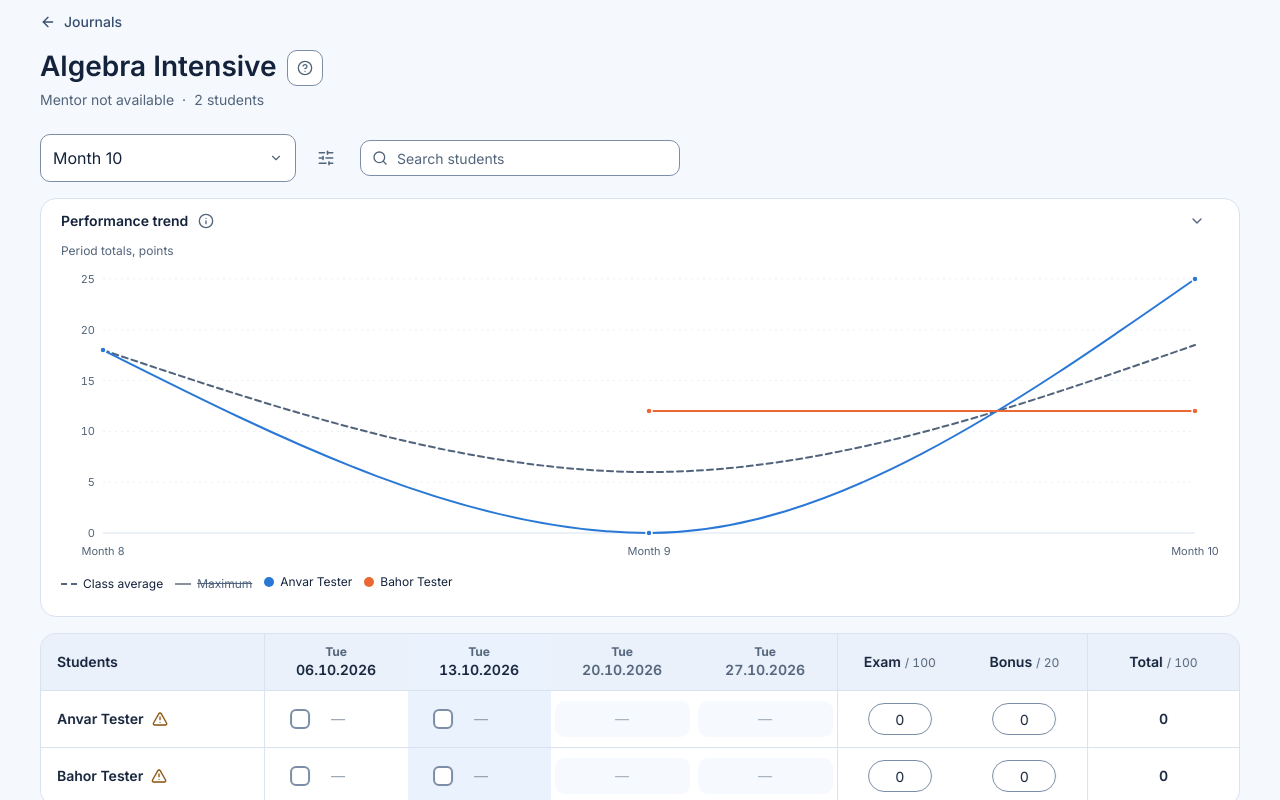
Period settings: exam maximum › rejects a bonus maximum above 100 inline and keeps Save disabled
Click the button named "Period settings" at (326, 158), box [304,136,348,180]
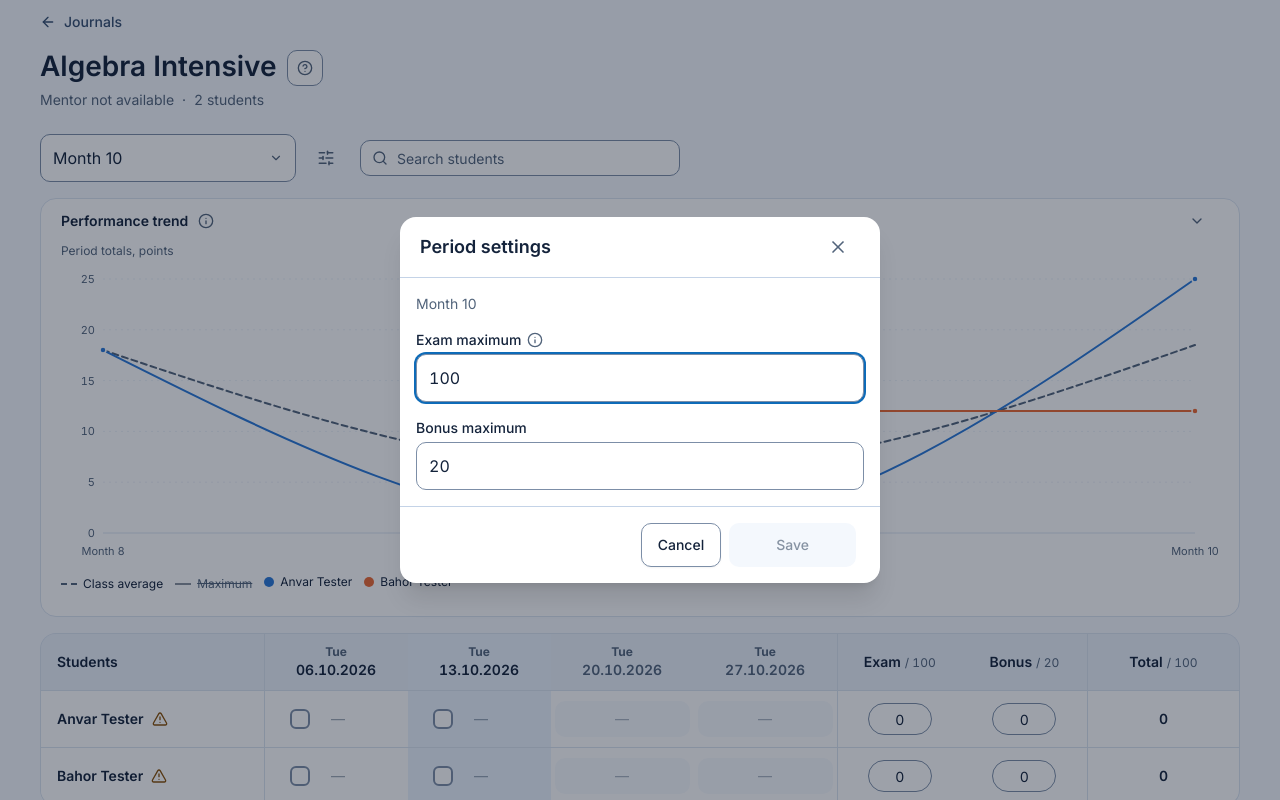
Replace the text in the field labelled "Bonus maximum" with "101" at (640, 466), box [416,442,864,490]
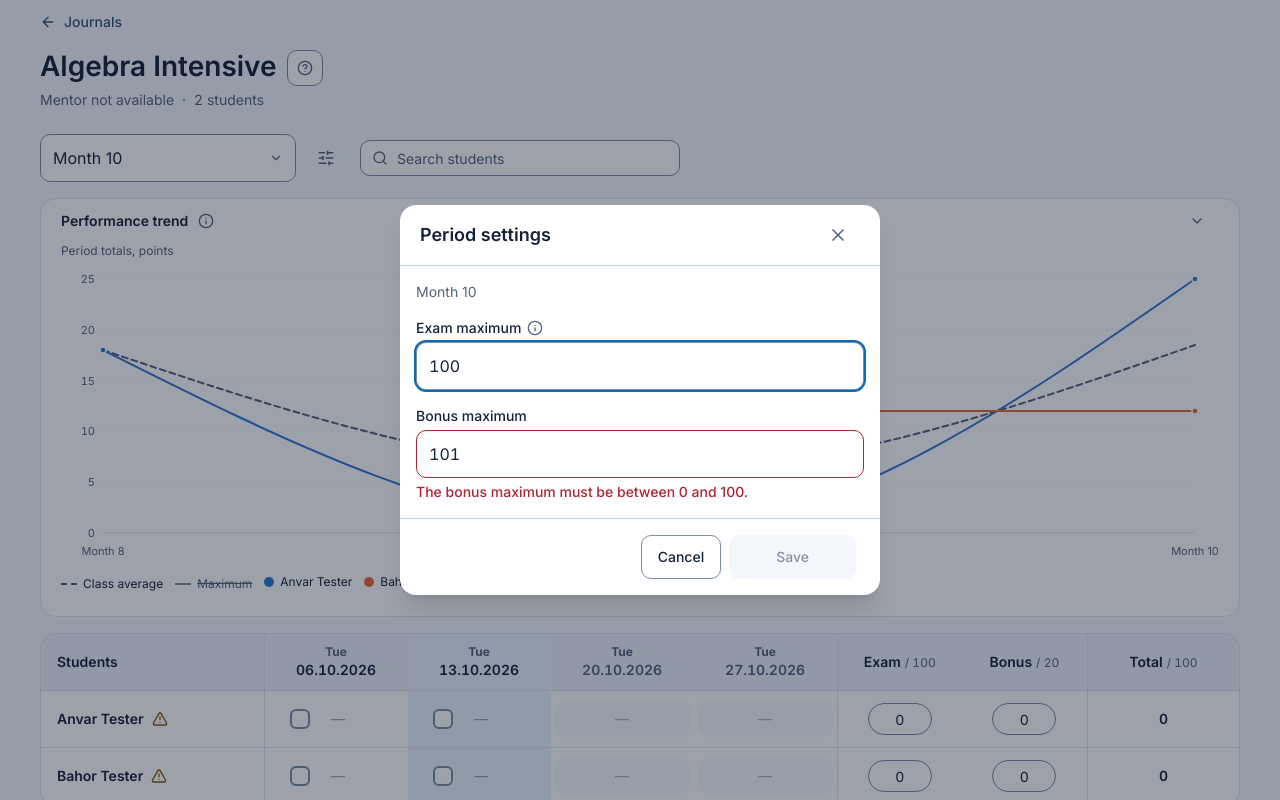
Expected: the button "Save" is disabled, [729,535,856,579]
Expected: the text "The bonus maximum must be between 0 and 100." is shown, [416,483,748,500]
